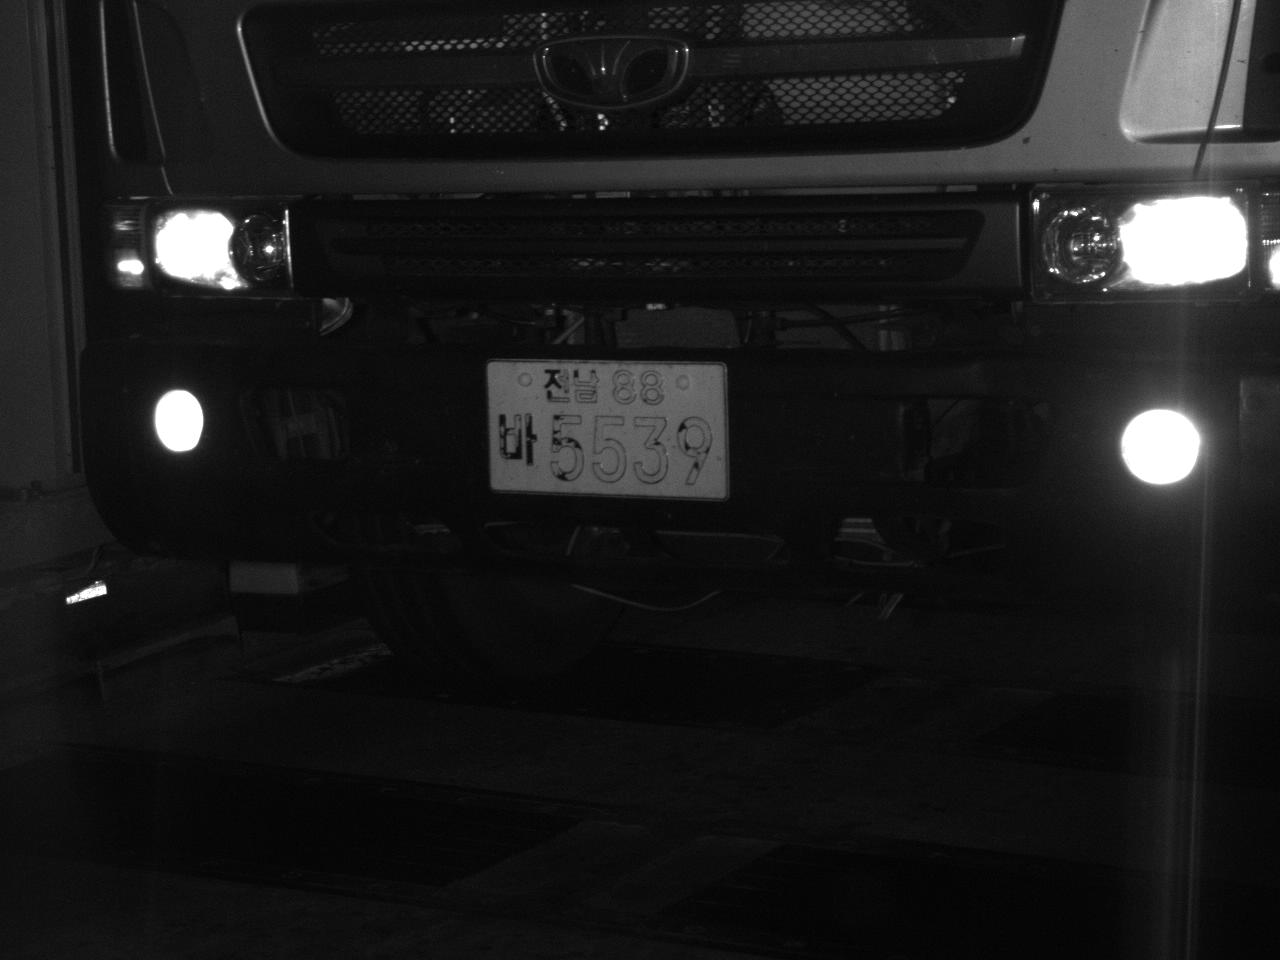car: (69, 1, 1277, 688)
plate: (486, 357, 733, 503)
